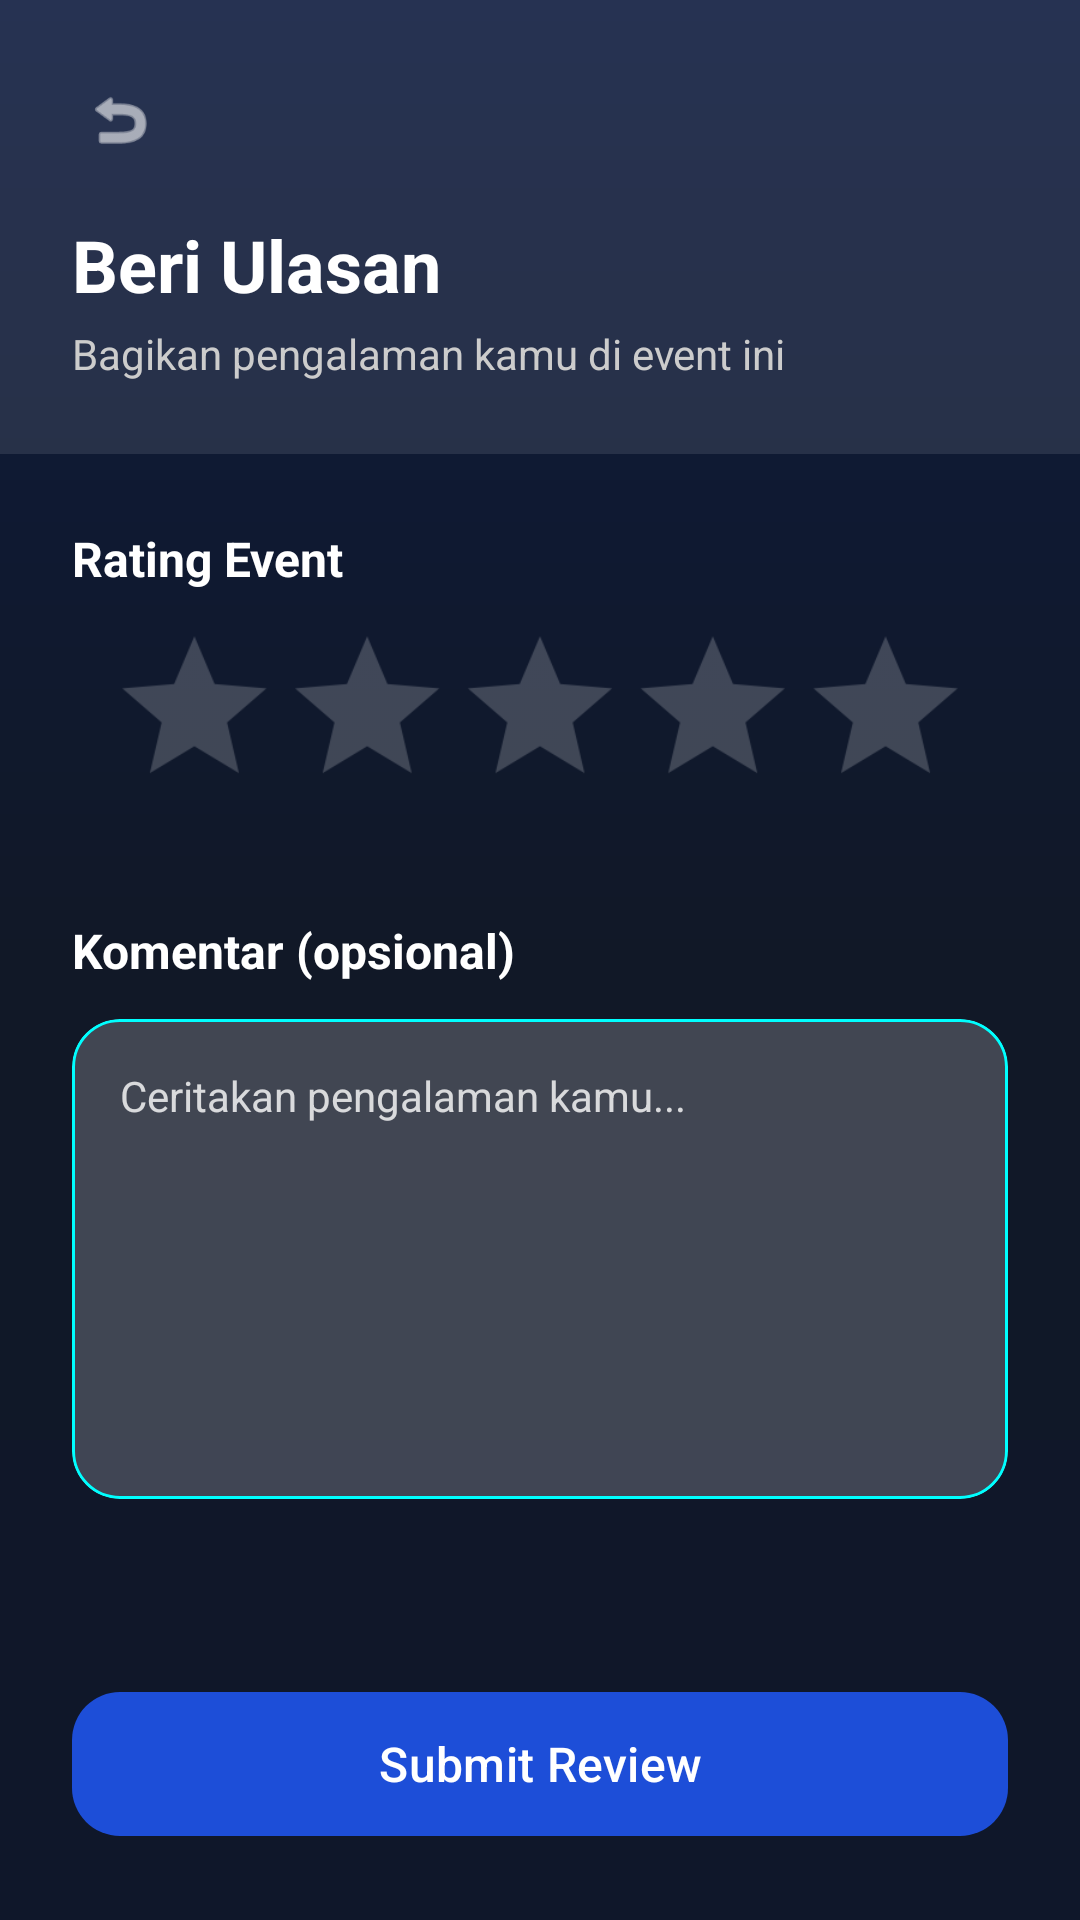

Icons on this 1080 × 1920 Android screen, each with its box as (x1, y1, x2, y2):
revert: (95, 97, 147, 144)
